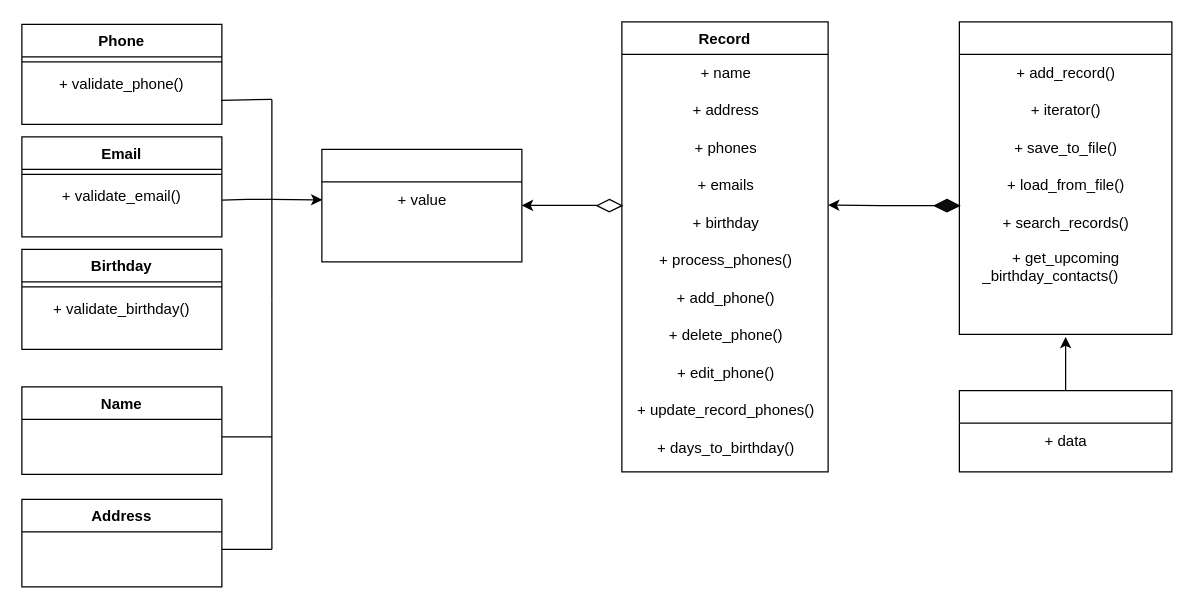
This 1194x609 diagram has some shape labels left out. Here are the shapes that lost their labels. From the top down, the box of each, then its label:
(958, 21, 1172, 334): AddressBook
(321, 148, 522, 262): Field
(958, 389, 1172, 472): UserDict
